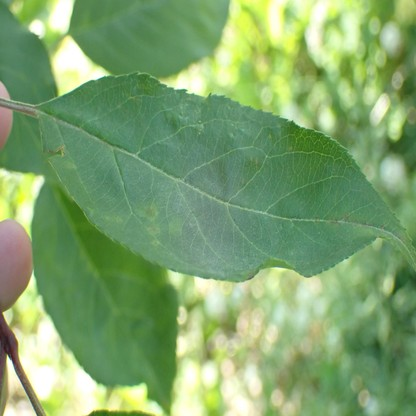scab: (353, 211, 374, 237), (328, 208, 352, 227), (136, 202, 157, 221), (169, 216, 184, 234), (102, 214, 123, 223), (378, 219, 389, 234), (148, 225, 160, 236), (62, 161, 76, 170), (313, 216, 320, 224), (152, 241, 159, 247)
